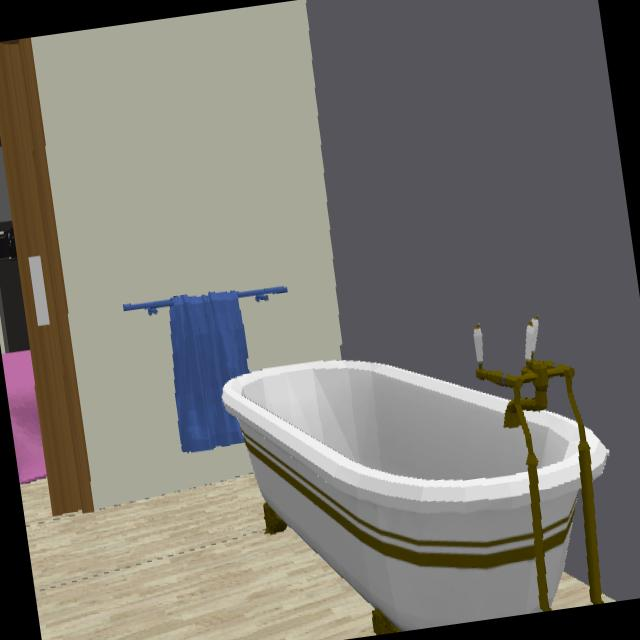bathtube: (224, 318, 607, 629)
